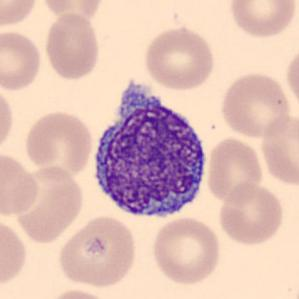Monocyte: (85, 77, 212, 226)
RBC: (6, 163, 87, 244), (55, 213, 138, 289), (218, 70, 294, 140), (149, 215, 223, 286), (22, 108, 95, 179), (141, 24, 217, 91), (216, 181, 286, 247), (204, 135, 265, 205), (42, 12, 102, 82), (257, 110, 299, 187), (0, 149, 41, 218), (0, 28, 44, 92), (227, 0, 297, 40), (0, 216, 30, 292), (38, 0, 106, 22), (0, 84, 16, 156), (0, 0, 39, 29), (283, 45, 299, 112), (41, 286, 115, 299)
